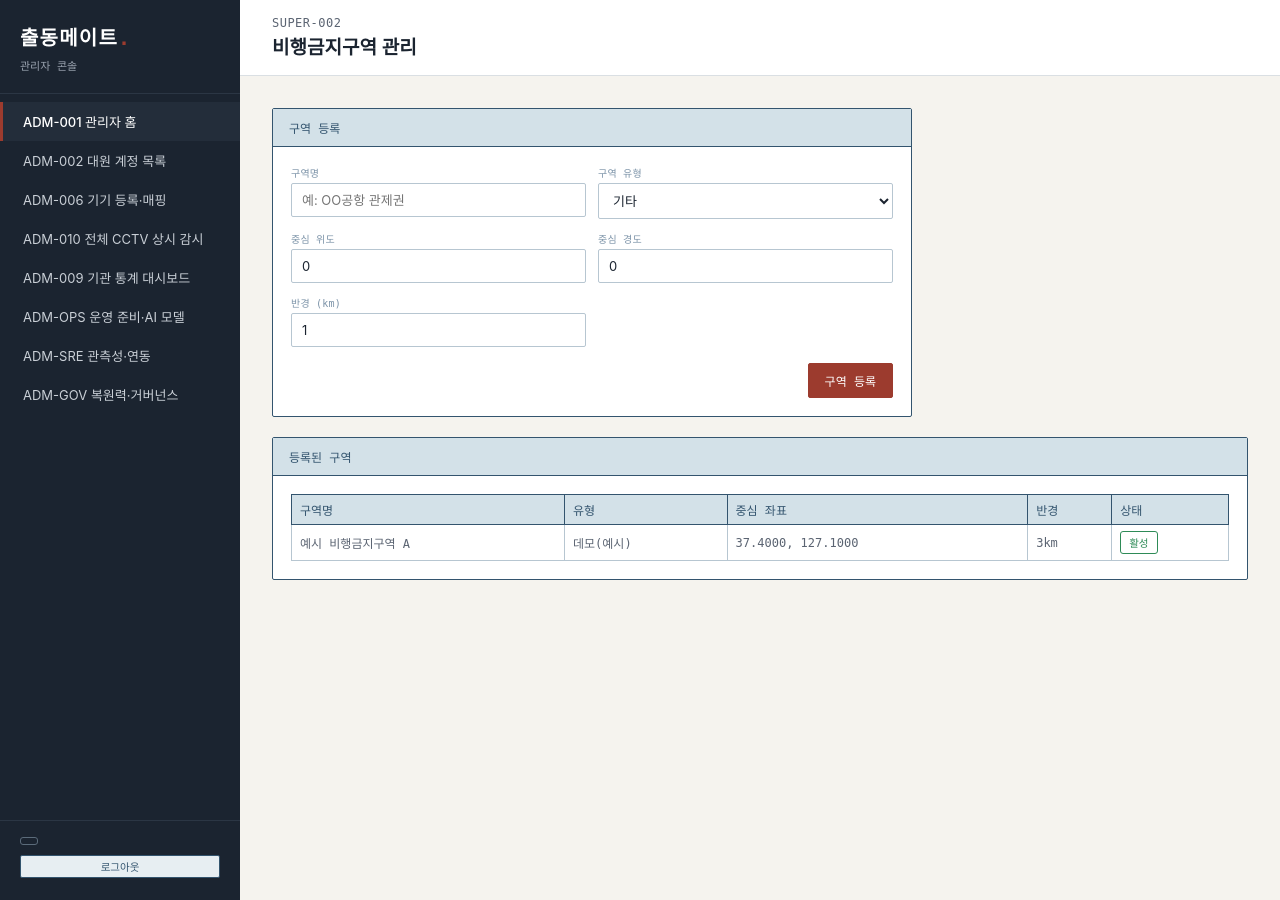
NoFlyZonesPage › 등록 실패 시 에러 배너를 보여준다
Expected: the text "예시 비행금지구역 A" is shown, x1=292 y1=524 x2=564 y2=560
In the field labelled "구역명": (438, 200) x1=291 y1=183 x2=586 y2=217, type "잘못된 구역"
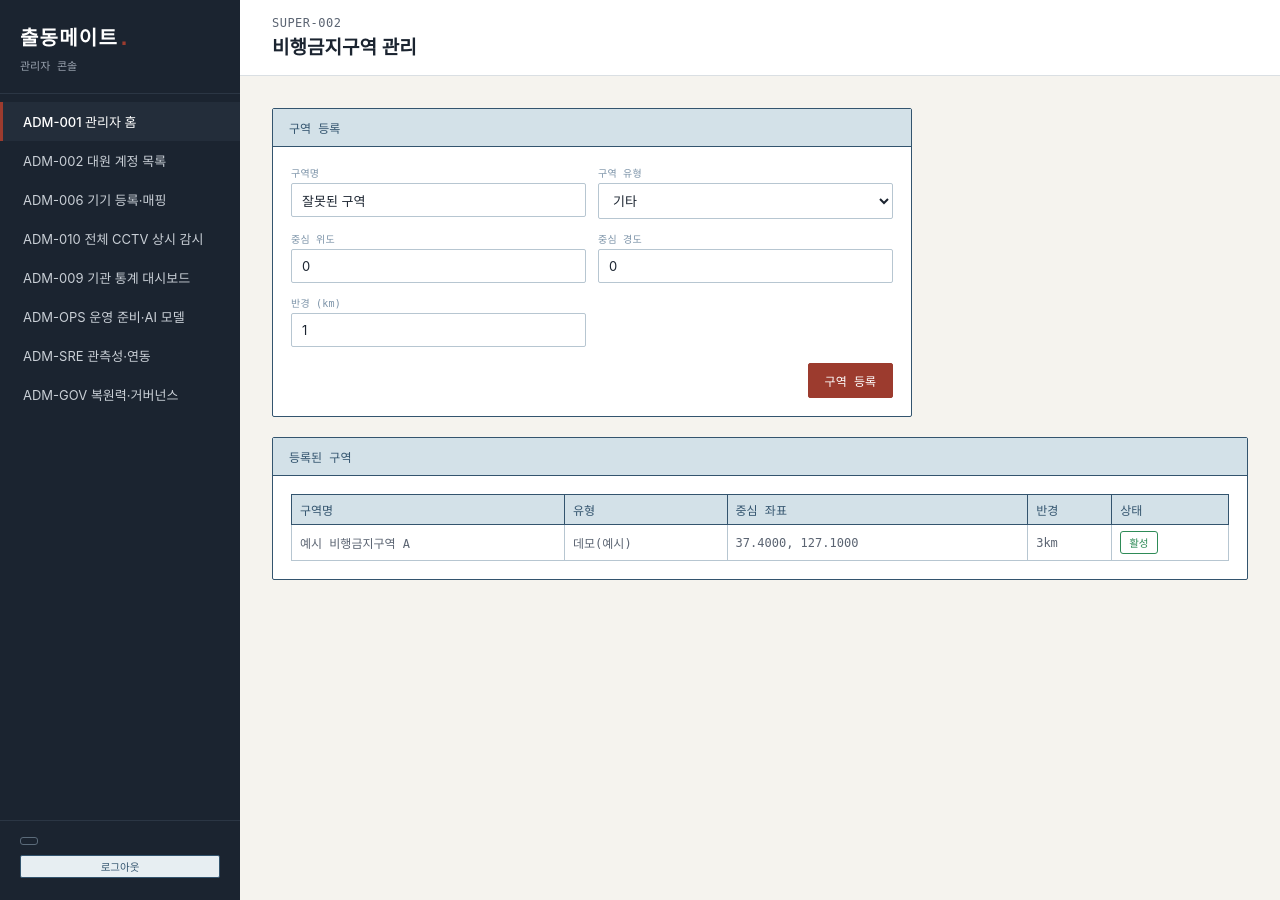
Click the button "구역 등록": (850, 380) x1=808 y1=363 x2=893 y2=398
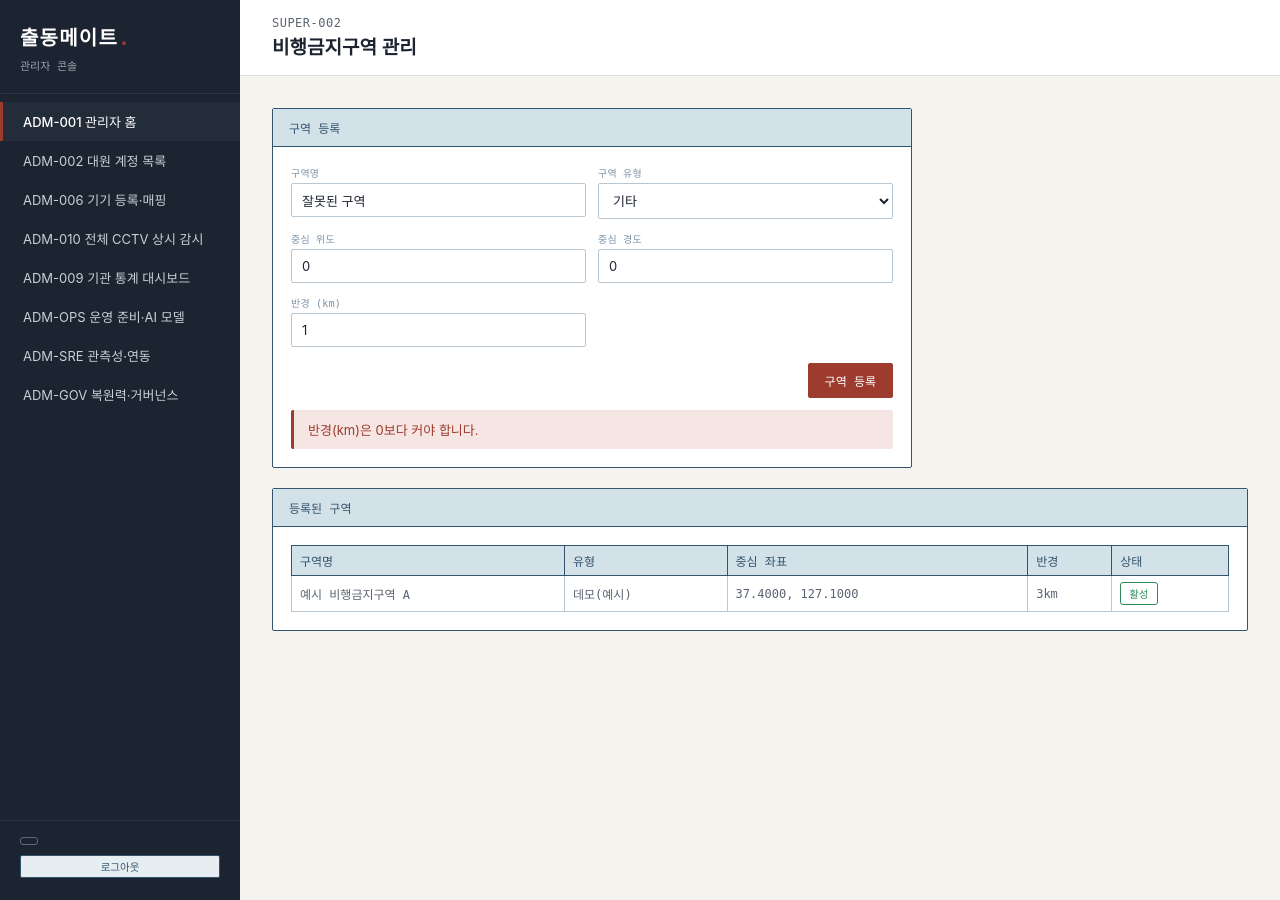
Expected: the text "반경(km)은 0보다 커야 합니다." is shown, x1=291 y1=410 x2=893 y2=449
